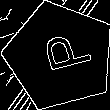P_W: (29, 31, 90, 80)
